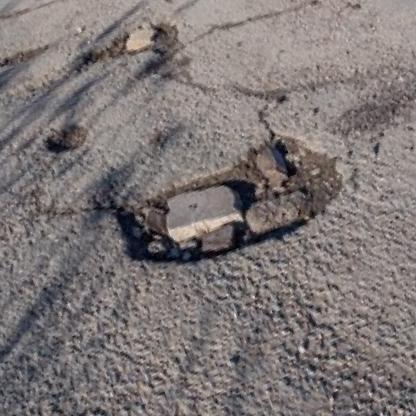pothole: (101, 113, 358, 294), (77, 12, 191, 100), (124, 0, 298, 27), (41, 118, 95, 159), (0, 40, 51, 71)
